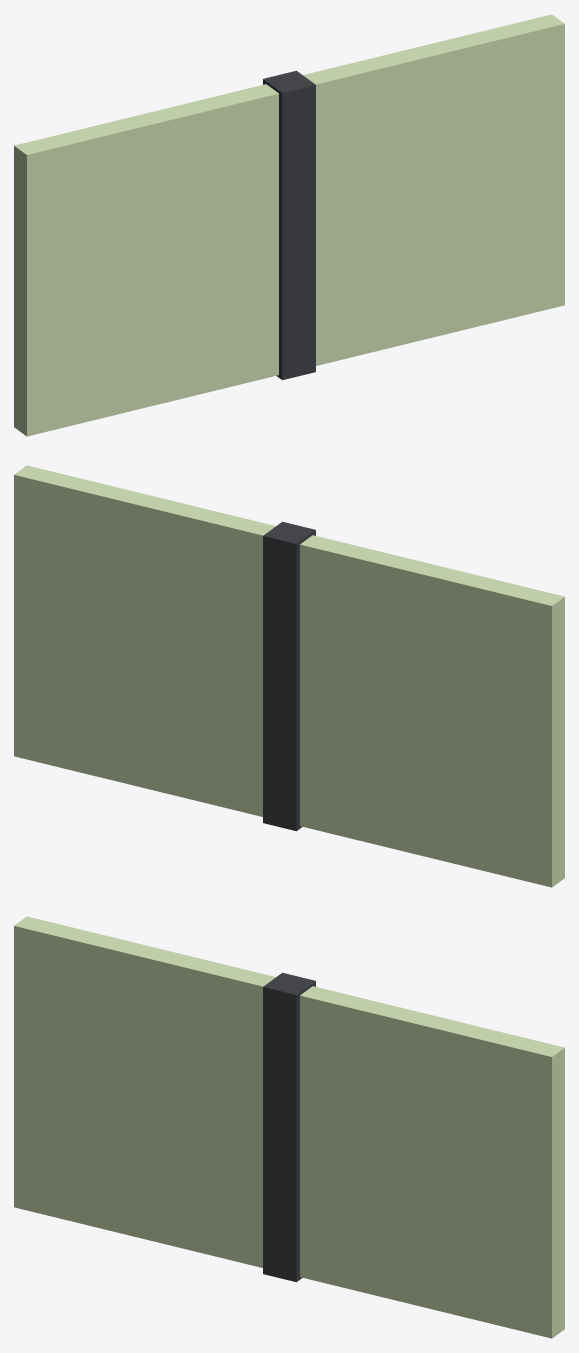
Rendered from Wall_6x3.fbx.
3 renders of one model, top to bottom at view 1: azimuth 30°, elevation 25°; view 2: azimuth 150°, elevation 25°; view 3: azimuth 330°, elevation 25°, orthographic.
Visible parts, largest first — view 1: Wall_6x3; view 2: Wall_6x3; view 3: Wall_6x3.
Part boxes in pixels (<box>): Wall_6x3: <box>14,14,564,436</box>; Wall_6x3: <box>14,465,564,887</box>; Wall_6x3: <box>14,916,564,1338</box>.
Bounding box in the file's own units: 600 × 306 × 37.5.
